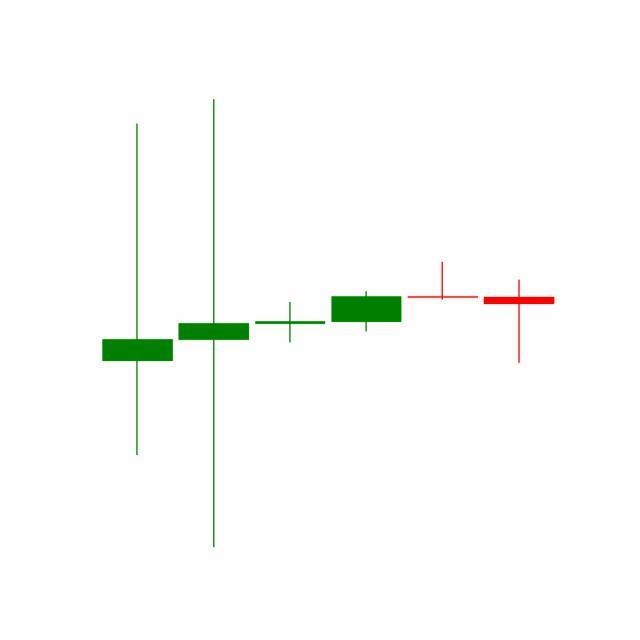Gravestone Doji: (404, 261, 482, 301)
